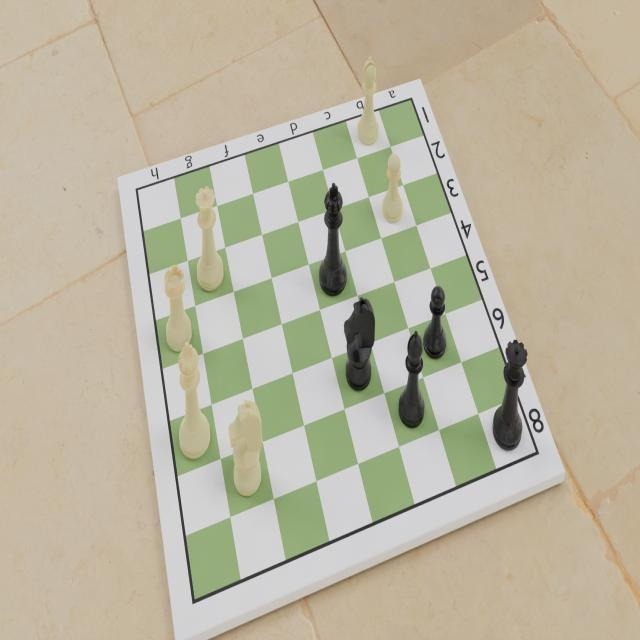black-bishop: (396, 327, 427, 430)
black-king: (318, 180, 350, 299)
black-knight: (342, 294, 377, 395)
black-pawn: (421, 284, 448, 361)
black-queen: (491, 337, 529, 454)
white-bishop: (354, 53, 381, 151)
white-king: (176, 340, 212, 464)
white-knight: (224, 393, 265, 499)
white-pawn: (380, 151, 406, 225)
white-queen: (192, 184, 225, 293)
white-rook: (162, 261, 194, 355)
